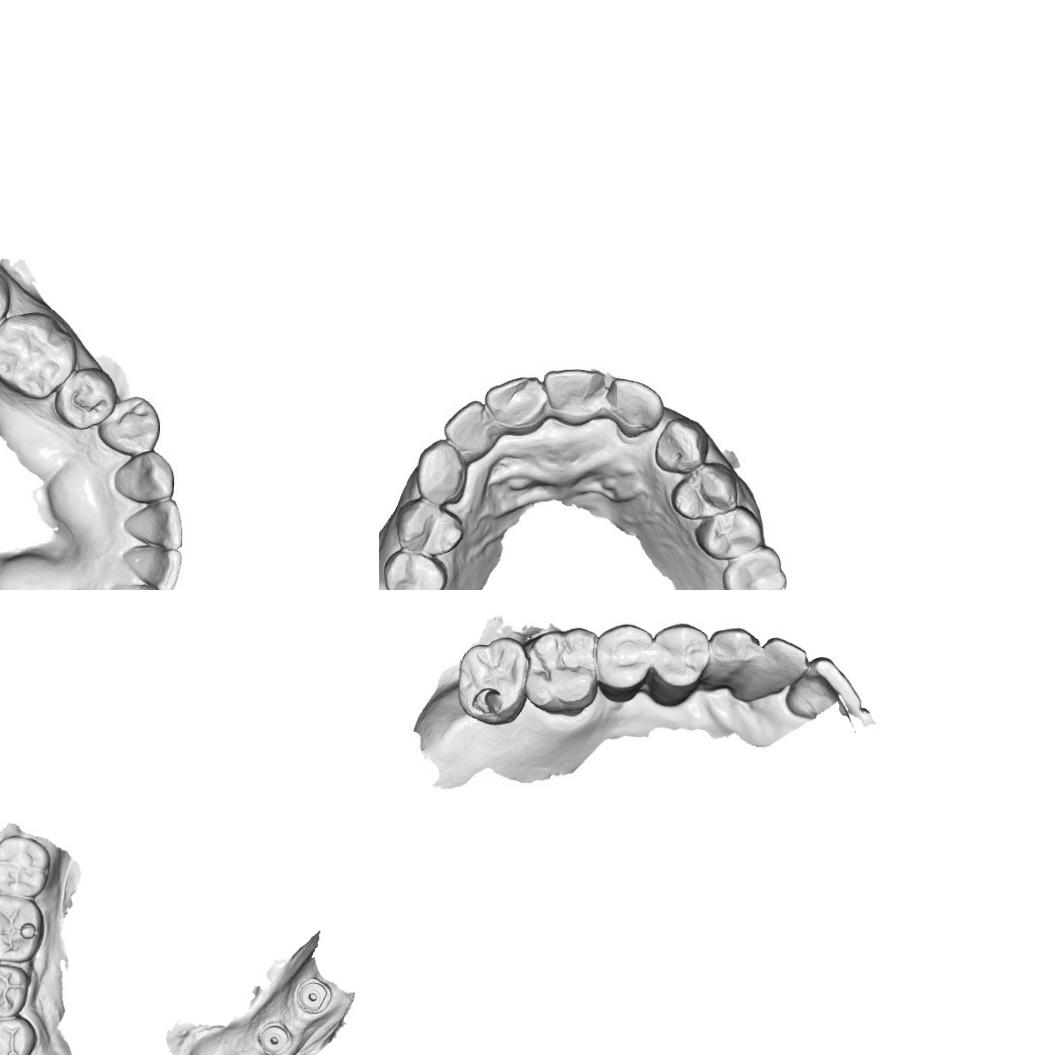canine: (701, 621, 757, 698), (416, 434, 467, 504), (648, 418, 707, 474), (115, 451, 176, 503)
implant: (295, 977, 333, 1014), (257, 1022, 292, 1055)
incisor: (746, 634, 808, 708), (545, 370, 611, 425), (488, 377, 551, 432), (606, 375, 662, 435), (444, 401, 492, 457), (126, 544, 183, 590), (131, 498, 184, 547), (114, 580, 166, 590)
molar: (450, 634, 531, 727), (523, 624, 599, 716), (0, 312, 74, 391), (0, 833, 52, 900), (0, 892, 47, 964), (721, 543, 788, 590)
premolar: (648, 621, 708, 706), (593, 622, 653, 702), (672, 459, 740, 522), (394, 499, 462, 560), (700, 503, 764, 564), (96, 394, 161, 454), (58, 367, 112, 429), (384, 548, 448, 590), (0, 963, 31, 1019), (0, 1015, 37, 1055)
